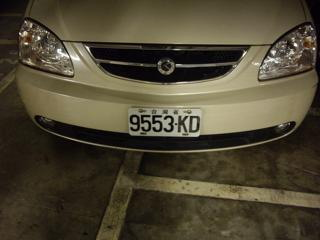plate: (125, 104, 201, 139)
